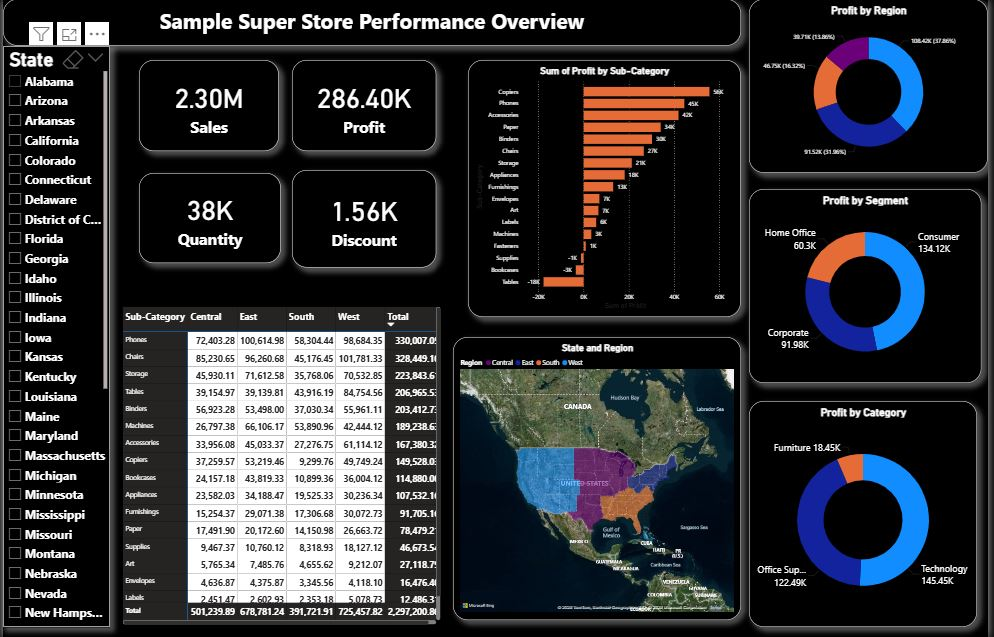

This screenshot's page, from the dashboard's own definition file:
{"tool":"powerbi","page":{"name":"Page 1","canvas":[2000,1300],"ordinal":0},"visuals":[{"type":"textbox","box":[0,0,1499.1,95.5],"z":0},{"type":"donutChart","title":"Profit by Category","fields":{"Category":["Orders.Category"],"Y":["Sum(Orders.Profit)"]},"box":[1515.8,816.8,463.2,458.9],"z":1000},{"type":"donutChart","title":"Profit by Segment","fields":{"Y":["Sum(Orders.Profit)"],"Category":["Orders.Segment"]},"box":[1515.8,385.3,471.6,393.7],"z":2000},{"type":"donutChart","title":"Profit by Region","fields":{"Y":["Sum(Orders.Profit)"],"Category":["Orders.Region"]},"box":[1515.3,0,485.5,353.4],"z":3000},{"type":"barChart","fields":{"Category":["Orders.Sub-Category"],"Y":["Sum(Orders.Profit)"]},"box":[945.3,124.2,553.7,522.1],"z":4000},{"type":"filledMap","fields":{"Category":["Orders.State"],"Series":["Orders.Region"]},"box":[913.7,686.3,585.3,574.7],"z":5000},{"type":"slicer","fields":{"Values":["Orders.State"]},"box":[0,94.7,216.8,1181.1],"z":6000},{"type":"pivotTable","fields":{"Rows":["Orders.Sub-Category"],"Columns":["Orders.Region"],"Values":["Sum(Orders.Sales)"]},"box":[237.9,618.9,656.8,656.8],"z":7000},{"type":"card","fields":{"Values":["Sum(Orders.Sales)"]},"box":[275.8,124.2,284.2,185.3],"z":8000},{"type":"card","fields":{"Values":["Sum(Orders.Profit)"]},"box":[587.4,124.2,292.6,185.3],"z":9000},{"type":"card","fields":{"Values":["Sum(Orders.Quantity)"]},"box":[275.8,353.7,288.4,183.2],"z":10000},{"type":"card","fields":{"Values":["Sum(Orders.Discount)"]},"box":[587.4,347.4,292.6,197.9],"z":11000}]}

Visuals, with their boxes in screenshot pixels (x1, y1, x2, y2), scaled from the page's 2000x1300 canvas onto the 994x637 screenshot:
textbox: locate(0, 0, 745, 47)
"Profit by Category" donutChart: locate(753, 400, 984, 625)
"Profit by Segment" donutChart: locate(753, 189, 988, 382)
"Profit by Region" donutChart: locate(753, 0, 993, 173)
barChart - Orders.Sub-Category x Sum(Orders.Profit): locate(470, 61, 745, 317)
filledMap - Orders.State x Orders.Region: locate(454, 336, 745, 618)
slicer - Orders.State: locate(0, 46, 108, 625)
pivotTable - Orders.Sub-Category x Orders.Region: locate(118, 303, 445, 625)
card - Sum(Orders.Sales): locate(137, 61, 278, 152)
card - Sum(Orders.Profit): locate(292, 61, 437, 152)
card - Sum(Orders.Quantity): locate(137, 173, 280, 263)
card - Sum(Orders.Discount): locate(292, 170, 437, 267)
